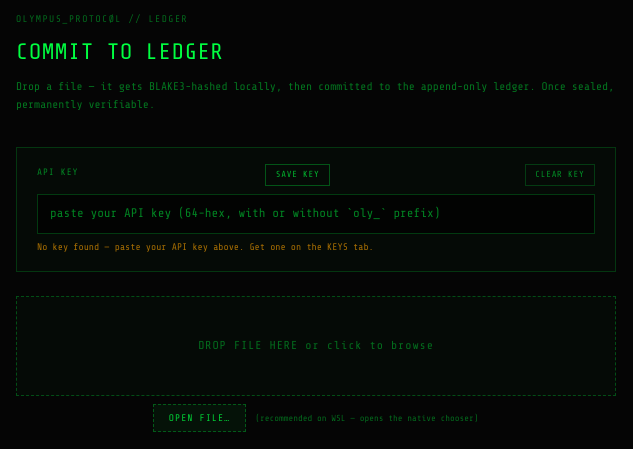
Scenario: <IngestPage> › Clear wipes the API key field and stored copy
In the password field with placeholder "paste your API key (64-hex, with or without `oly_` prefix)": (316, 214) [37,194,595,234], type "aaaaaaaaaaaaaaaaaaaaaaaaaaaaaaaaaaaaaaaaaaaaaaaaaaaaaaaaaaaaaaaa"
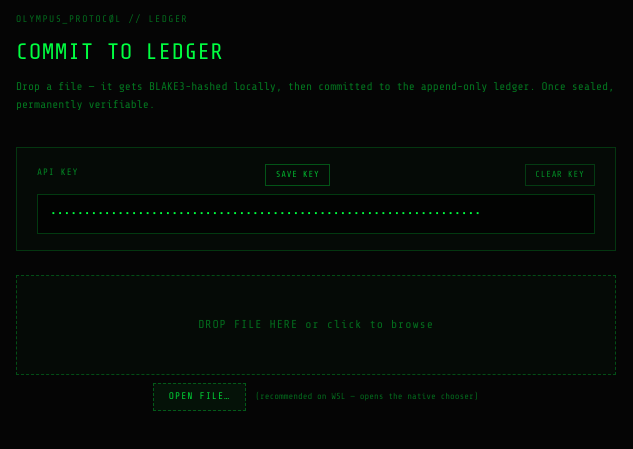
Click the button "SAVE KEY": (298, 174) [265,164,330,186]
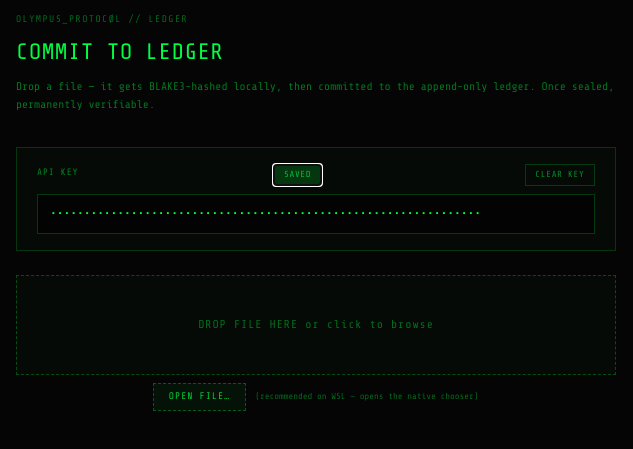
Click the button "CLEAR KEY": (560, 174) [525,164,595,186]
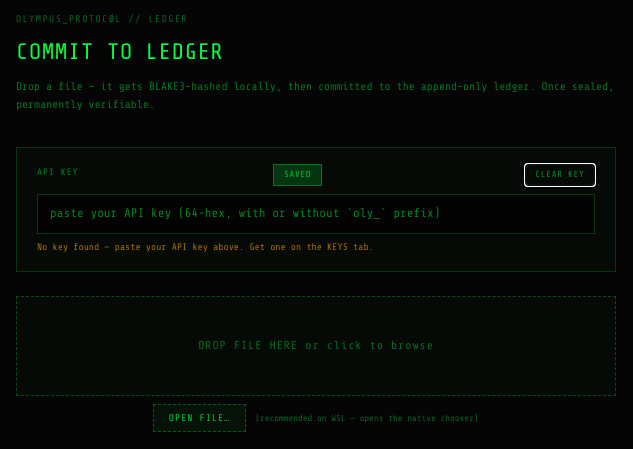
Now the password field with placeholder "paste your API key (64-hex, with or without `oly_` prefix)" is empty, box [37,194,595,234]
